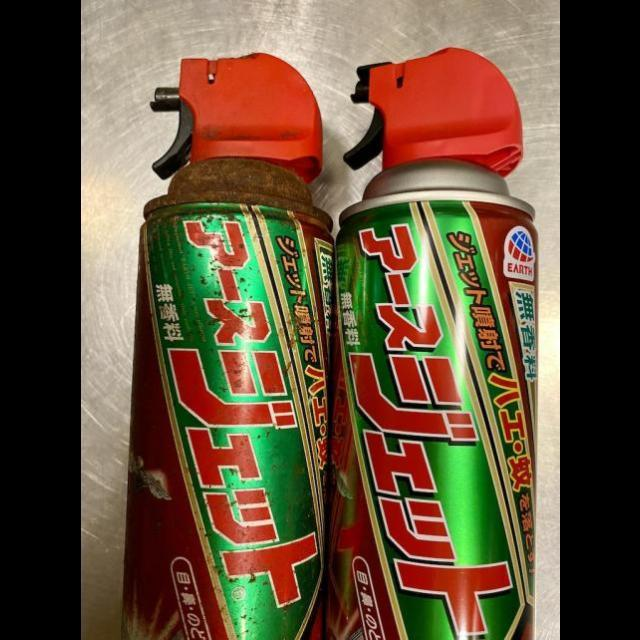chemical_spray_can: (327, 48, 538, 640), (122, 53, 332, 640)
